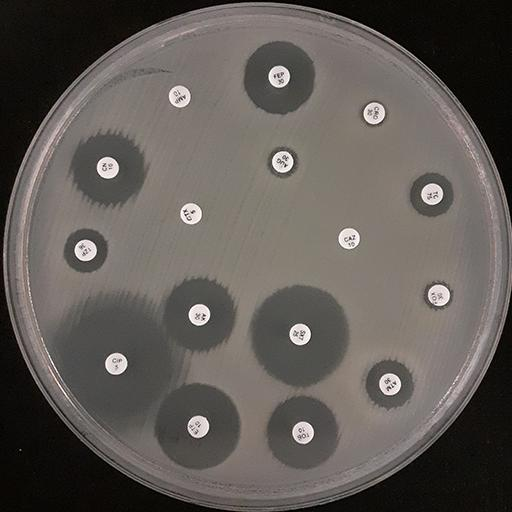disc: (291, 421, 314, 445), (268, 66, 291, 89), (180, 202, 203, 225), (188, 303, 211, 326), (289, 323, 312, 346), (378, 373, 401, 396), (168, 86, 191, 108), (363, 102, 386, 124), (271, 151, 294, 173), (96, 157, 119, 179), (337, 228, 360, 250), (74, 240, 97, 262), (428, 285, 451, 307), (104, 353, 127, 375), (187, 416, 210, 438), (421, 183, 443, 205)
